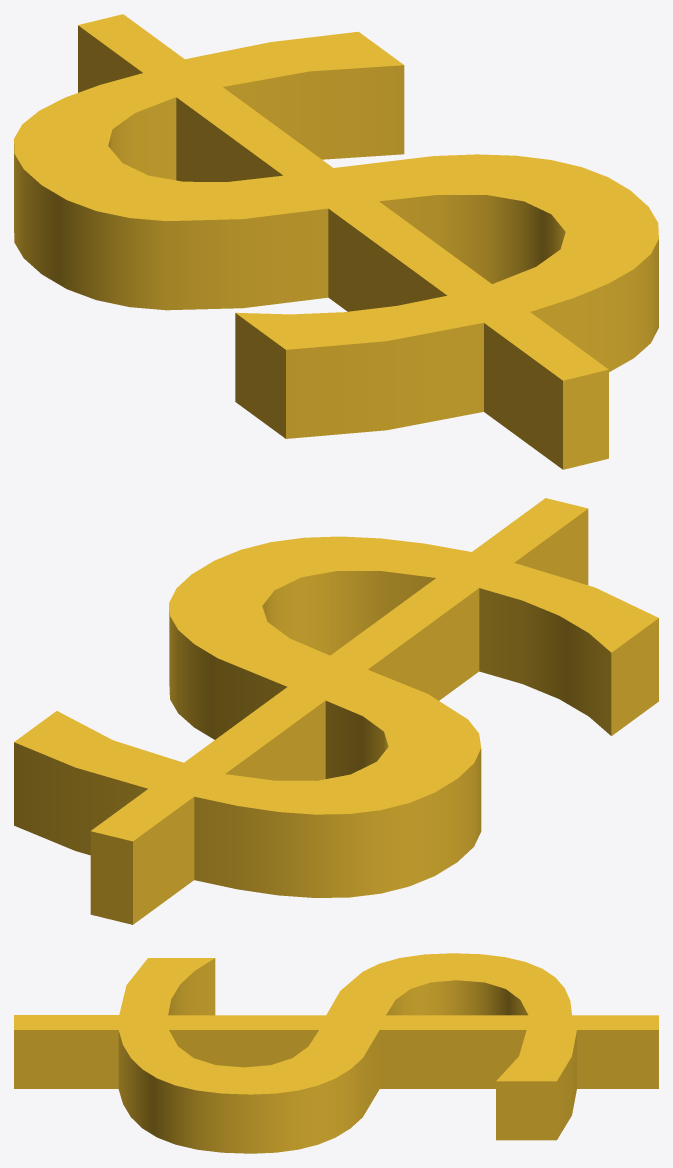
File: spinners.dae
3 renders of one model, top to bottom at view 1: azimuth 30°, elevation 25°; view 2: azimuth 150°, elevation 25°; view 3: azimuth 270°, elevation 25°, orthographic. The views are drawn at different scales.
Visible parts, largest first — view 1: instance_0; view 2: instance_0; view 3: instance_0.
Boxes of the visible parts, <box> form: instance_0: <box>14,14,658,469</box>; instance_0: <box>14,498,658,924</box>; instance_0: <box>14,953,658,1153</box>.
Size of the model in its own units: 6.05 by 11.67 by 1.18.
